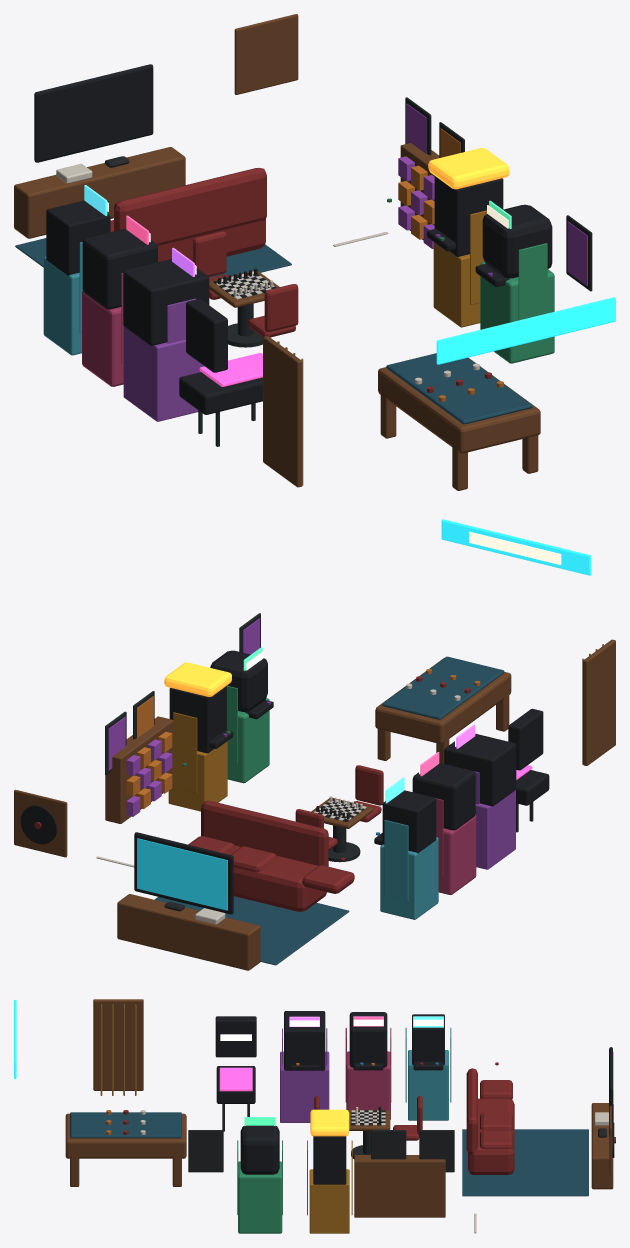
The model's file is game-room-furniture-v002.glb.
3 renders of one model, top to bottom at view 1: azimuth 30°, elevation 25°; view 2: azimuth 150°, elevation 25°; view 3: azimuth 270°, elevation 25°, orthographic. The views are drawn at different scales.
Parts seen in each view (by area): view 1: Export Arcade 01 lower; view 2: Export Arcade 01 lower; view 3: Export Arcade 01 lower.
Boxes of the visible parts, x1,y1,x2,y2 form: Export Arcade 01 lower: [14, 14, 615, 490]; Export Arcade 01 lower: [14, 519, 615, 970]; Export Arcade 01 lower: [14, 999, 615, 1233].
Size of the model in its own units: 5.53 by 2.69 by 10.55.
